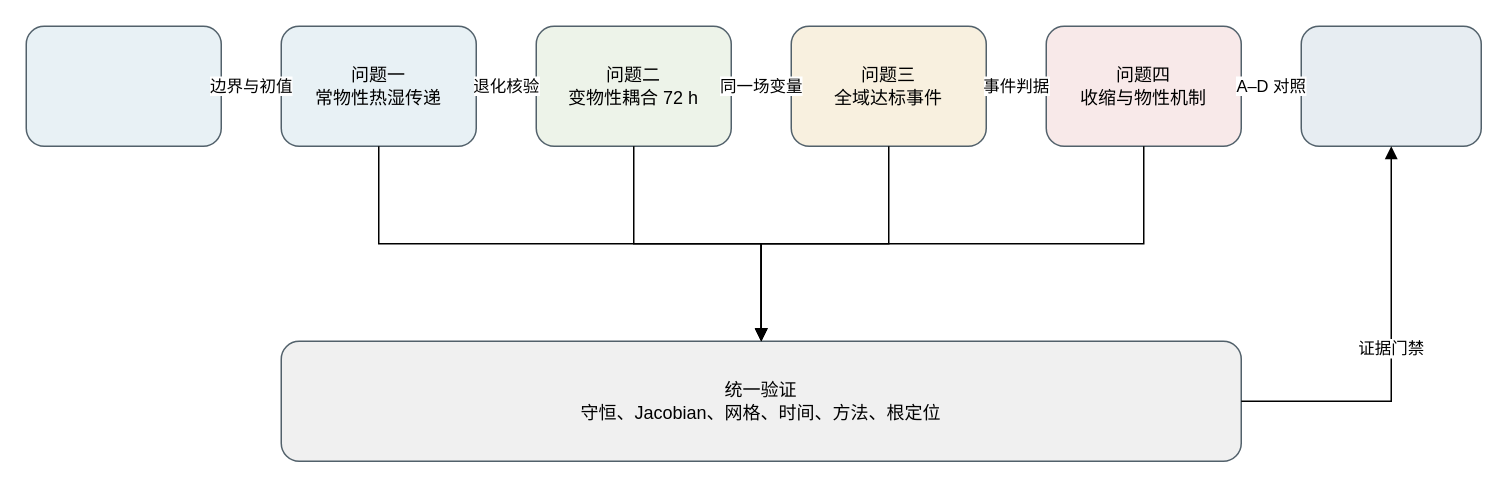
Some shapes in this 1508 by 488 pixel diagram are drawn without their labels. The box of each missing label's shape, as (x1, y1, x2, y2) in pixels:
表格 图源 报告: (1300, 25, 1481, 146)
题面与附件 环境、半径、物性: (25, 25, 221, 146)
